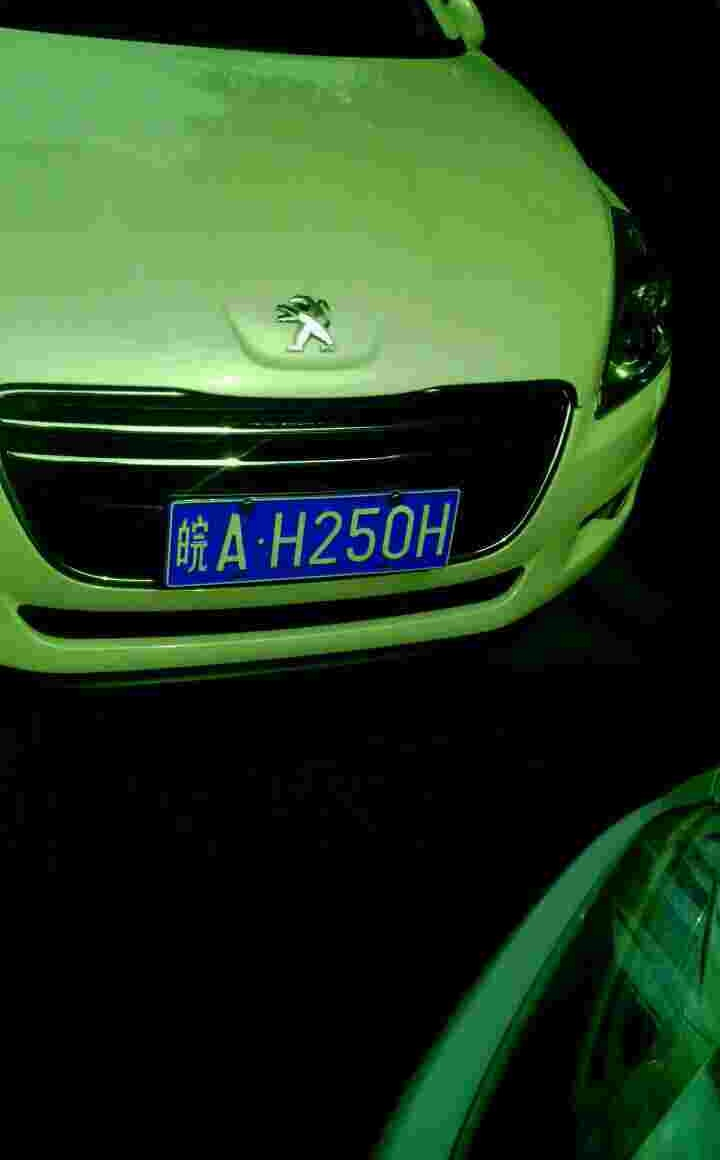car: (164, 491, 477, 580)
